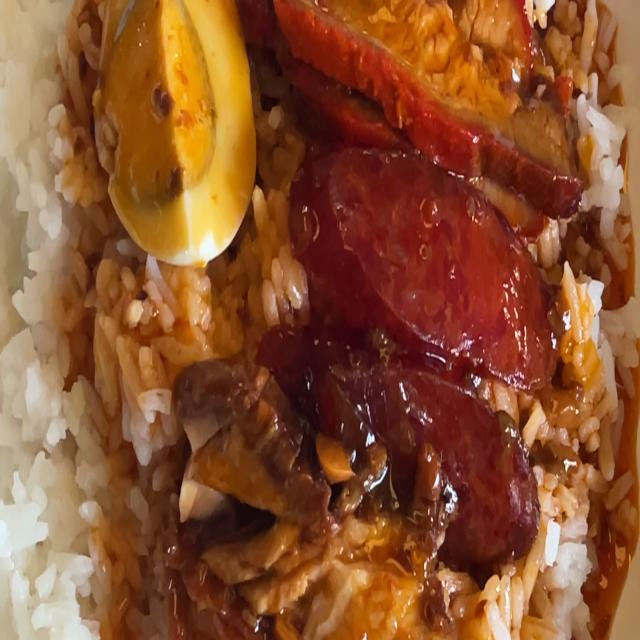01boiled_egg: (101, 0, 249, 258)
01chainese_sausage: (288, 160, 538, 551)
01crispy_pork: (215, 535, 471, 640), (178, 358, 310, 554)
01red_pork: (256, 0, 562, 181)
01red_pork_and_crispy_pork: (0, 0, 640, 640)
01rice: (0, 0, 98, 640), (89, 262, 173, 640)
